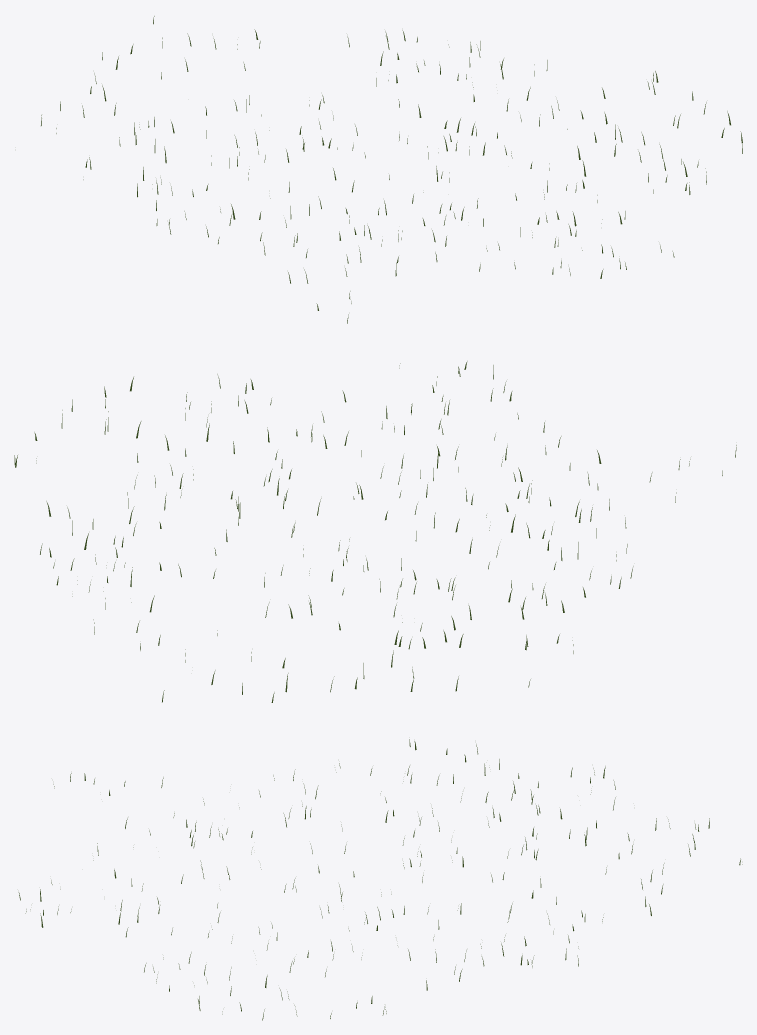
The picture shows the model from 3 angles, top to bottom: view 1: azimuth 30°, elevation 25°; view 2: azimuth 150°, elevation 25°; view 3: azimuth 270°, elevation 25°; orthographic projection. The views are drawn at different scales.
Parts seen in each view (by area): view 1: GrassPatch; view 2: GrassPatch; view 3: GrassPatch.
Part boxes in pixels (bbox=[...]): GrassPatch: bbox=[41, 16, 742, 323]; GrassPatch: bbox=[14, 361, 736, 702]; GrassPatch: bbox=[18, 739, 742, 1020].
Size of the model in its own units: 16.99 by 0.4907 by 19.11.
